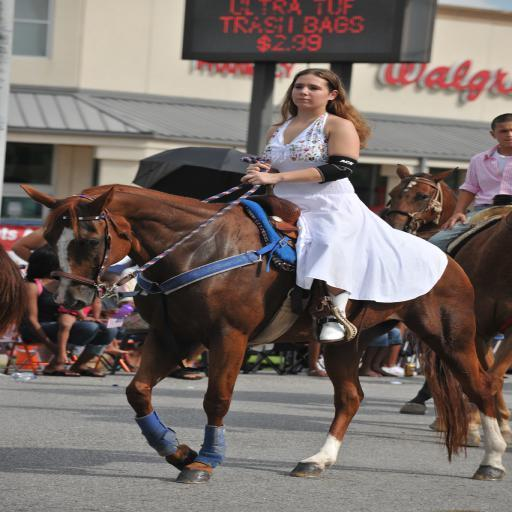horse: (20, 182, 509, 486), (378, 162, 472, 416), (428, 208, 512, 442)
